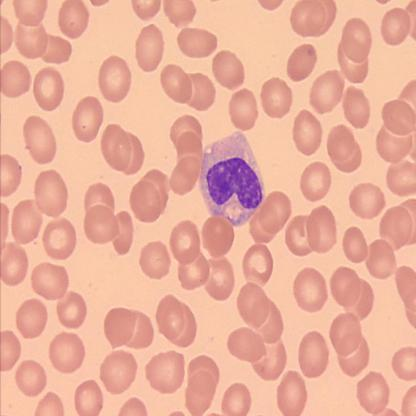Metamyelocyte: (197, 129, 268, 229)
